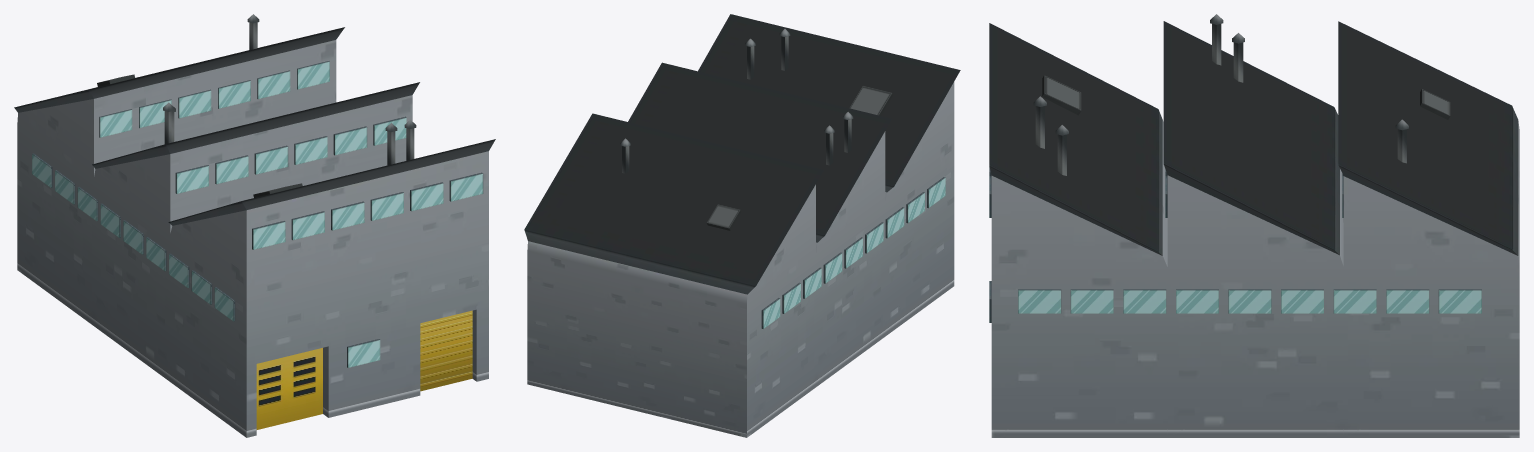
File: industrial_wearhouse_01.glb
The picture shows the model from 3 angles, left to right: view 1: azimuth 30°, elevation 25°; view 2: azimuth 150°, elevation 25°; view 3: azimuth 270°, elevation 25°; orthographic projection. The views are drawn at different scales.
Visible parts, largest first — view 1: ind:wearhouse_02; view 2: ind:wearhouse_02; view 3: ind:wearhouse_02.
Part boxes in pixels (left/top/right/bottom): ind:wearhouse_02: left=14, top=14, right=495, bottom=437; ind:wearhouse_02: left=524, top=14, right=960, bottom=437; ind:wearhouse_02: left=989, top=14, right=1519, bottom=437.
Size of the model in its own units: 12.96 by 12.54 by 20.18.
1 material, 1 textured.
